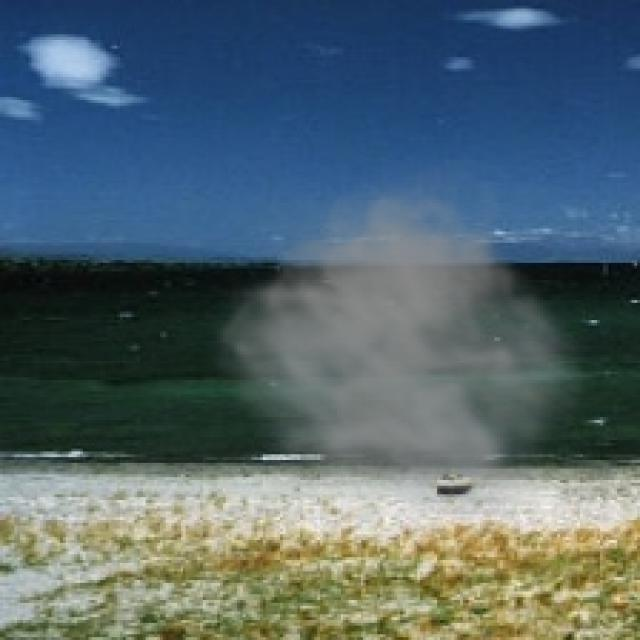smoke: (200, 152, 600, 514)
